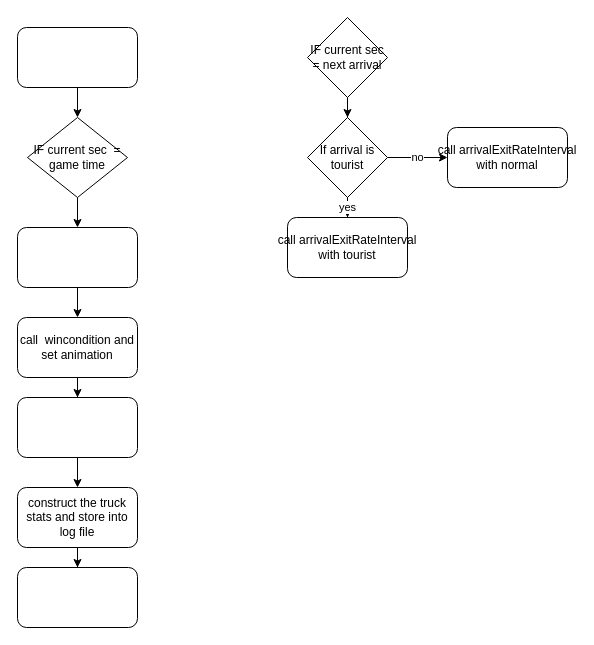
Image size: 594x645. Some labels were removed from this diagram. The shapes that lost their labels are listed below. From the top down, each one's centre as x and y in pixels, then its label:
the point at 77,57: calculate the minute and sec of time
the point at 77,257: set the game clock,time as 0
the point at 77,427: set the truck animation and broad cast match end data
the point at 77,597: call clearsimulation
